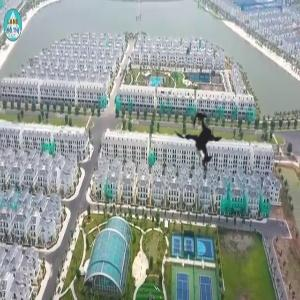drone: (149, 91, 253, 195)
